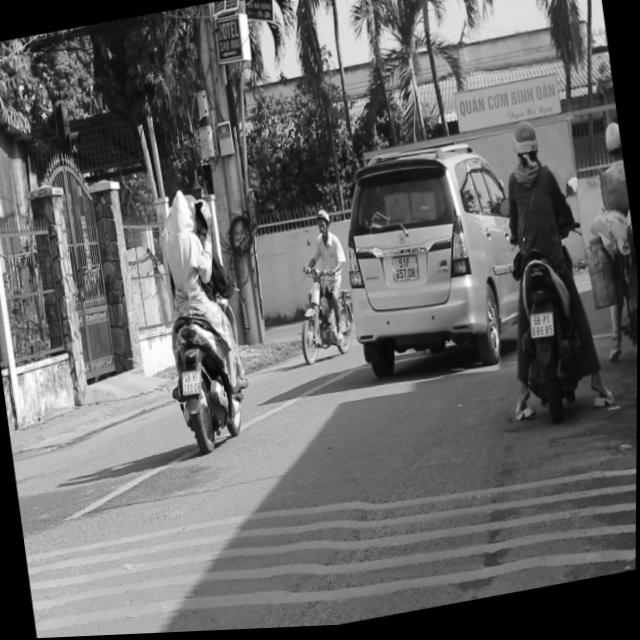helmet: (509, 122, 542, 171), (601, 125, 623, 166)
licenseplate: (480, 114, 609, 432), (142, 177, 258, 459), (571, 122, 639, 374)
motorcyclist: (164, 187, 195, 243)
nohelmet: (529, 315, 555, 342), (180, 369, 203, 398)
